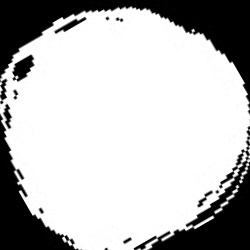spot: (3, 9, 248, 249)
